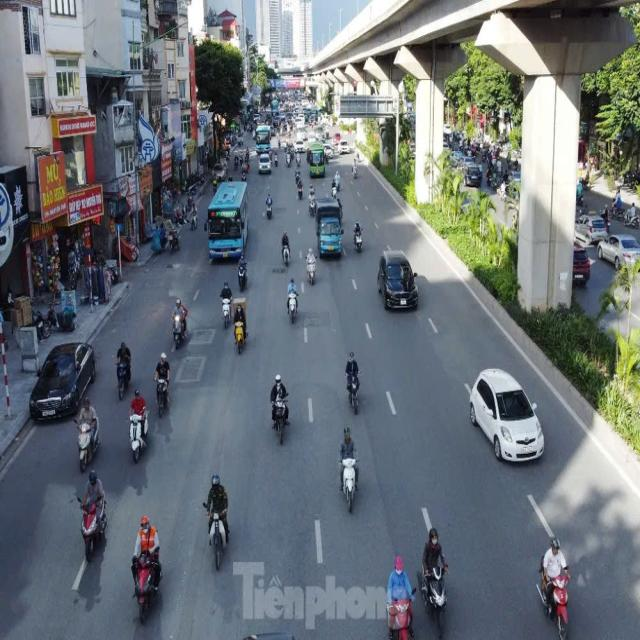Xe Buyt: (205, 171, 253, 272)
ben: (310, 190, 346, 262)
car: (466, 357, 550, 472), (27, 327, 96, 421), (375, 242, 423, 321)
motobyte: (416, 520, 456, 638), (537, 531, 578, 638), (198, 467, 234, 575), (131, 507, 163, 623), (74, 464, 109, 568), (384, 550, 419, 640), (334, 422, 362, 517), (69, 395, 102, 474), (128, 388, 151, 468), (166, 289, 192, 357), (112, 332, 134, 405), (270, 369, 292, 442), (228, 288, 250, 357), (152, 348, 172, 420), (214, 274, 233, 334), (283, 272, 302, 328), (278, 224, 294, 271), (304, 246, 319, 293), (352, 214, 367, 259), (236, 250, 250, 296), (264, 186, 274, 227)
